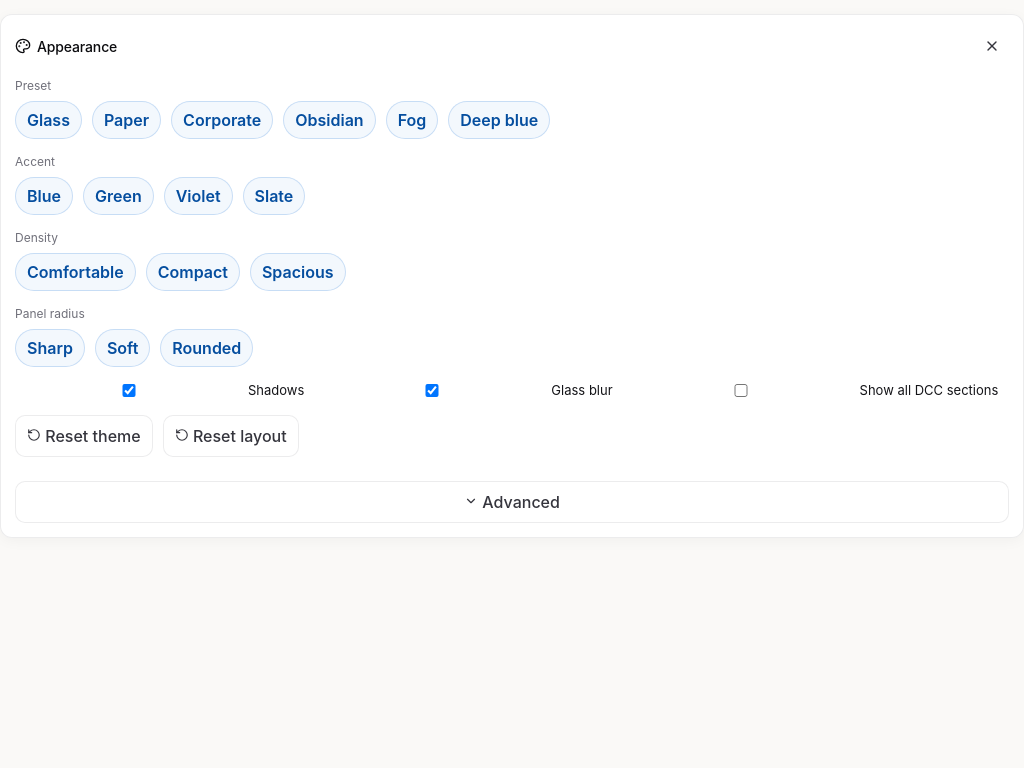
Scenario: AppearancePanel › advanced button reveals token groups and import/export actions
Click the button "Advanced".
click(512, 502)  # box [15,480,1009,522]
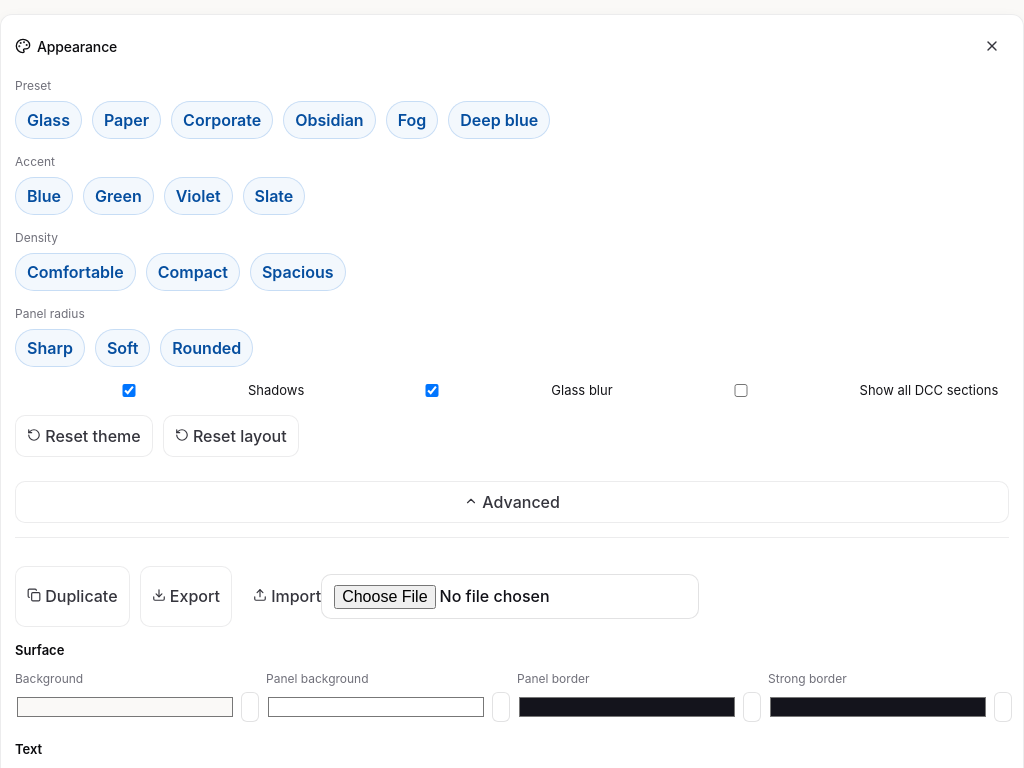
Check: the colour field named "Background color" is shown, box [15,693,235,721]
Check: the button "Duplicate" is shown, box [15,566,130,626]
Check: the button "Export" is shown, box [140,566,232,626]
